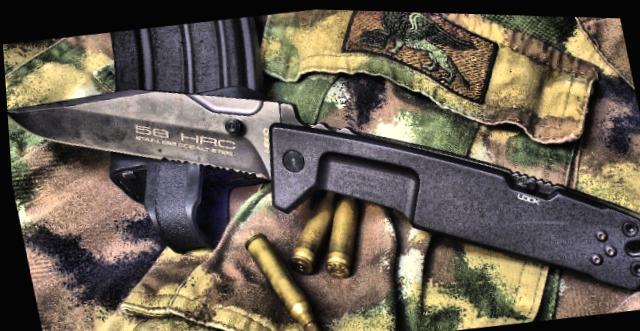knife: (3, 62, 324, 256)
